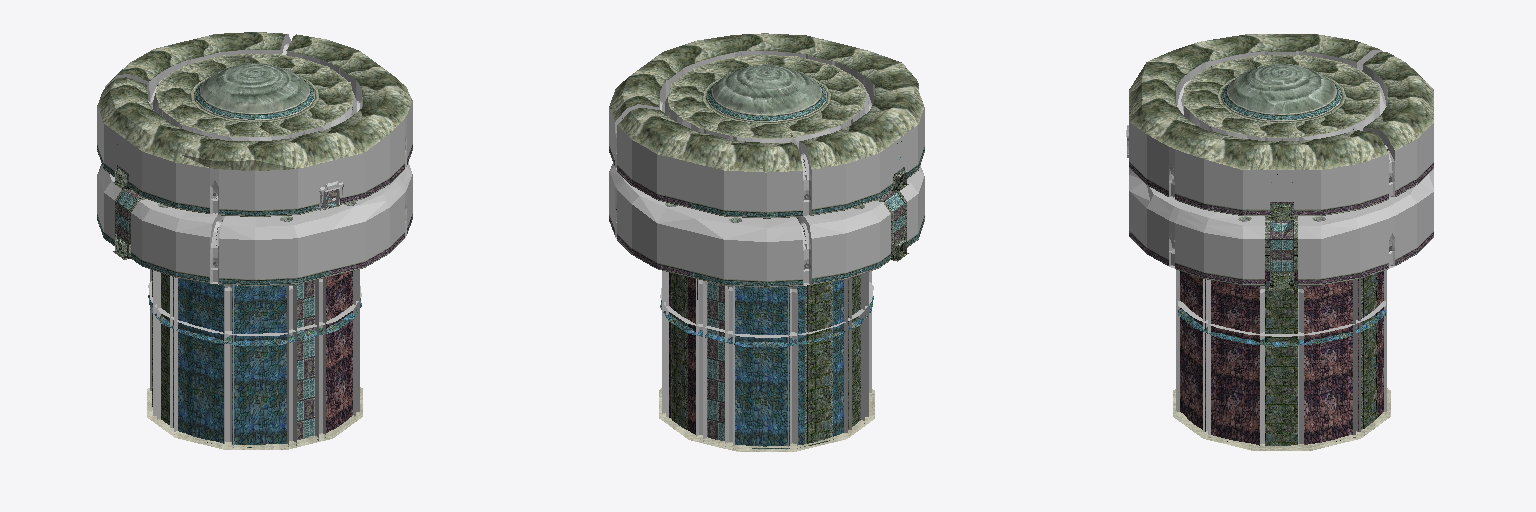
3 views of the same model, side by side, from view 1: azimuth 30°, elevation 25°; view 2: azimuth 150°, elevation 25°; view 3: azimuth 270°, elevation 25° (orthographic).
Parts seen in each view (by area): view 1: Shape_13, Shape_14, Shape_10, Shape_5, Shape_15, Shape_0, Shape_8, Shape_4, Shape_16, Shape_11, Shape_6, Shape_12 (+1 smaller); view 2: Shape_13, Shape_14, Shape_10, Shape_5, Shape_11, Shape_15, Shape_0, Shape_4, Shape_12, Shape_16, Shape_8, Shape_6 (+1 smaller); view 3: Shape_13, Shape_14, Shape_8, Shape_11, Shape_5, Shape_15, Shape_6, Shape_16, Shape_12, Shape_4, Shape_0, Shape_10 (+1 smaller).
Part boxes in pixels (bbox=[...]): Shape_13: bbox=[97, 34, 412, 278]; Shape_14: bbox=[97, 32, 412, 170]; Shape_10: bbox=[117, 144, 361, 447]; Shape_5: bbox=[150, 52, 406, 447]; Shape_15: bbox=[158, 63, 356, 221]; Shape_0: bbox=[97, 79, 330, 285]; Shape_8: bbox=[326, 271, 352, 432]; Shape_4: bbox=[117, 189, 337, 439]; Shape_16: bbox=[147, 387, 362, 449]; Shape_11: bbox=[113, 180, 173, 427]; Shape_6: bbox=[331, 144, 412, 275]; Shape_12: bbox=[115, 166, 339, 406]; Shape_13: bbox=[609, 51, 924, 280]; Shape_14: bbox=[609, 33, 923, 172]; Shape_10: bbox=[660, 141, 903, 448]; Shape_5: bbox=[615, 54, 871, 448]; Shape_11: bbox=[672, 182, 908, 445]; Shape_15: bbox=[665, 64, 864, 222]; Shape_0: bbox=[691, 82, 924, 287]; Shape_4: bbox=[707, 191, 904, 440]; Shape_12: bbox=[671, 167, 906, 446]; Shape_16: bbox=[659, 388, 874, 451]; Shape_8: bbox=[669, 272, 697, 434]; Shape_6: bbox=[609, 146, 690, 277]; Shape_13: bbox=[1129, 50, 1433, 278]; Shape_14: bbox=[1129, 34, 1433, 169]; Shape_8: bbox=[1180, 174, 1383, 445]; Shape_11: bbox=[1265, 207, 1376, 445]; Shape_5: bbox=[1126, 51, 1394, 443]; Shape_15: bbox=[1227, 64, 1336, 221]; Shape_6: bbox=[1129, 161, 1433, 285]; Shape_16: bbox=[1173, 388, 1390, 450]; Shape_12: bbox=[1265, 203, 1376, 429]; Shape_4: bbox=[1270, 221, 1293, 271]; Shape_0: bbox=[1221, 77, 1342, 121]; Shape_10: bbox=[1178, 309, 1385, 346].
Bounding box in the file's own units: 146 × 188 × 143.
Materials: 25 (21 with a texture image).